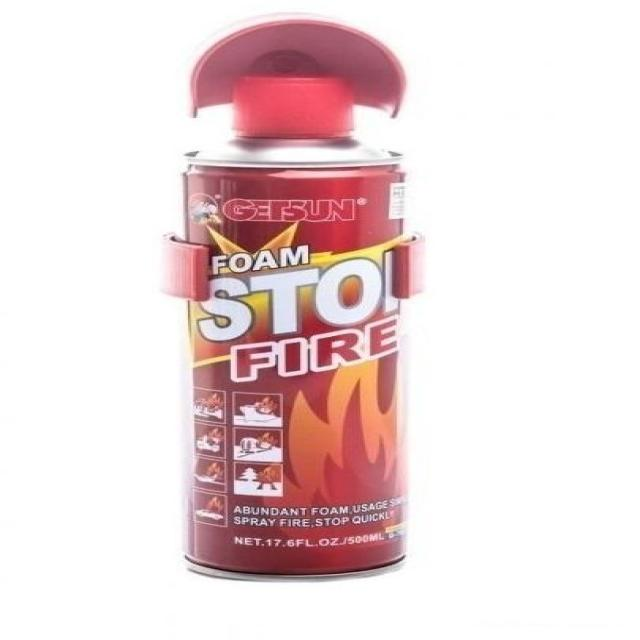fire_extinguisher: (166, 71, 419, 587)
